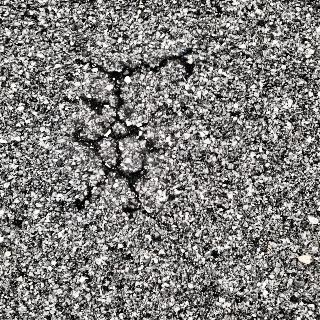crack: (59, 45, 246, 213)
